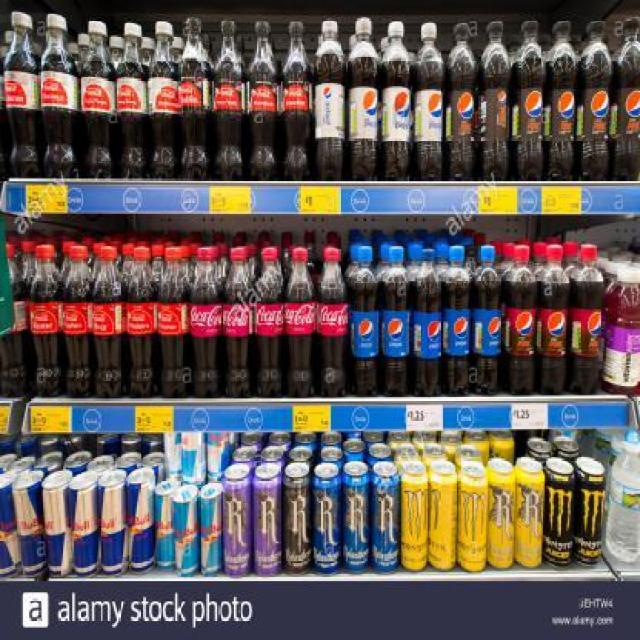Drinks: (346, 18, 380, 180), (512, 18, 546, 180), (544, 19, 578, 181), (579, 19, 613, 181), (569, 244, 605, 396), (478, 21, 512, 181), (444, 23, 478, 182), (314, 19, 346, 181), (381, 19, 413, 181), (222, 247, 255, 398), (285, 247, 318, 398), (413, 22, 444, 181), (316, 248, 349, 397), (505, 244, 537, 396), (537, 243, 569, 395), (254, 247, 286, 398), (381, 245, 412, 397), (349, 245, 380, 397), (442, 245, 472, 397), (192, 248, 222, 400), (412, 248, 442, 398), (472, 245, 501, 397), (612, 16, 639, 179)
